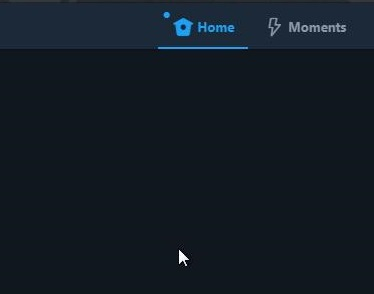cursor: (177, 248, 190, 268)
